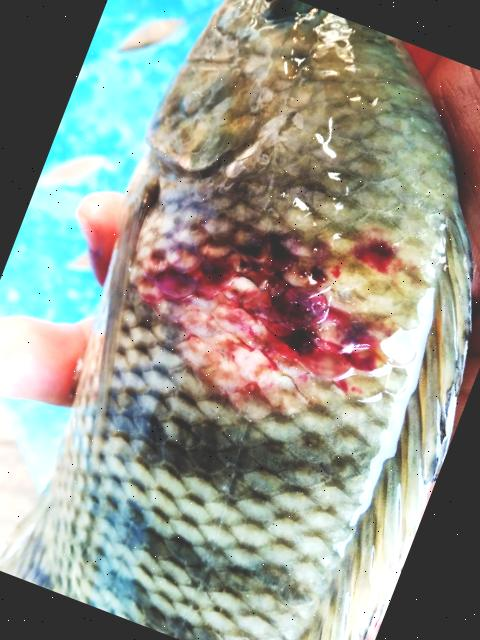Columnaris Disease: (0, 0, 471, 640)
